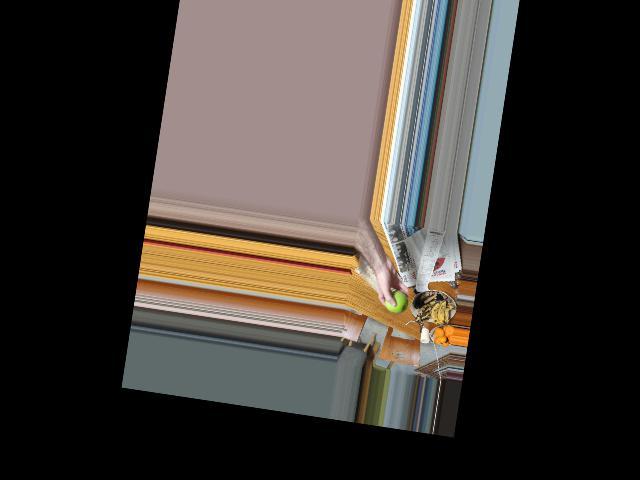apple: (385, 284, 410, 315)
